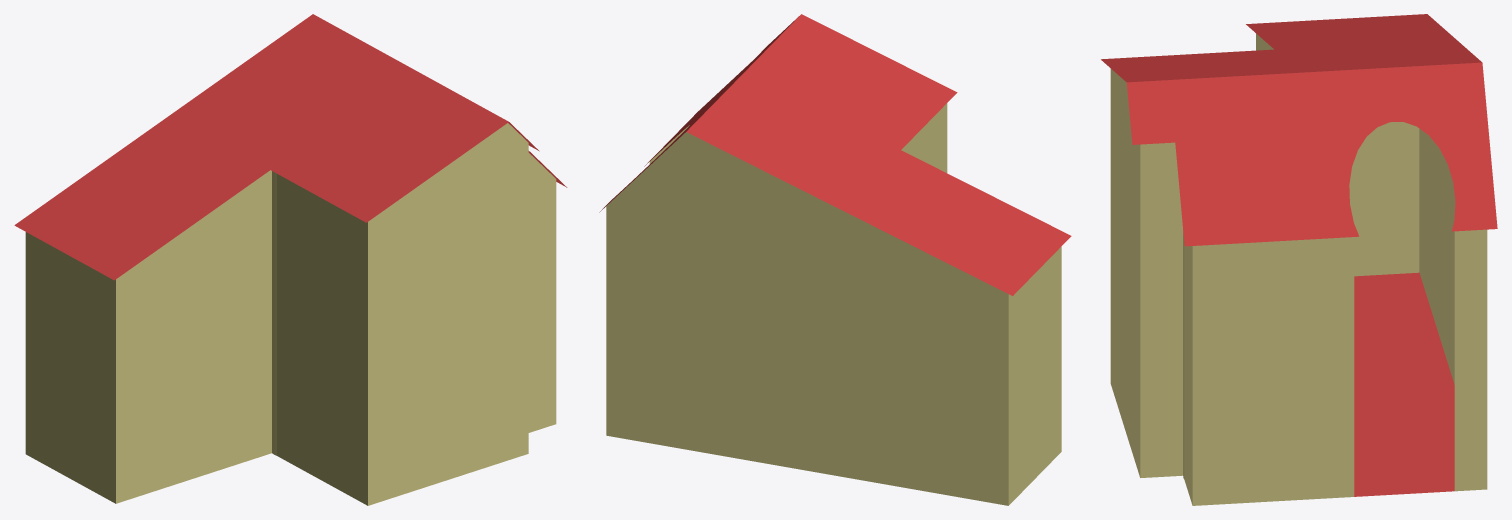
3 views of the same model, side by side, from view 1: azimuth 30°, elevation 25°; view 2: azimuth 150°, elevation 25°; view 3: azimuth 270°, elevation 25° (orthographic). The views are drawn at different scales.
Size of the model in its own units: 15.65 by 10.86 by 11.52.
